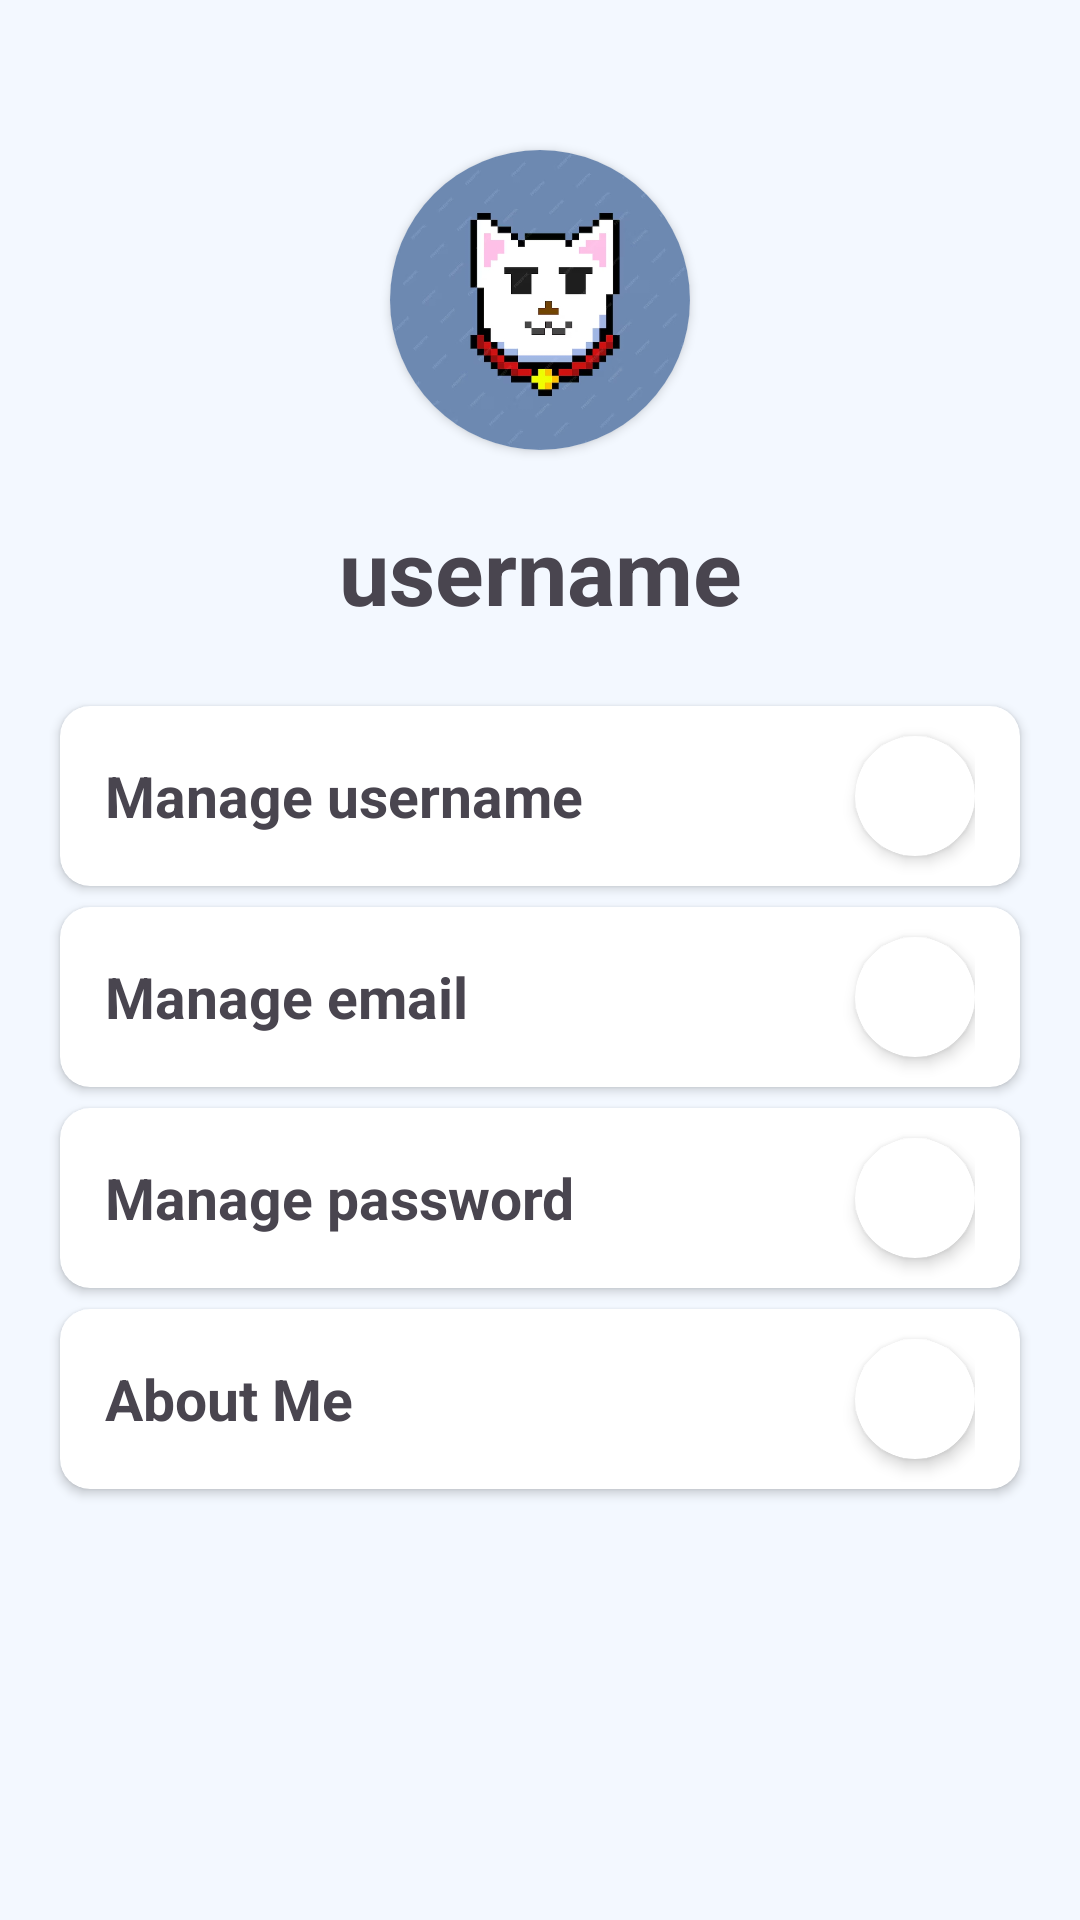

Where icons sit on this 1080 x 1920 app screen, as (x1, y1, x2, y2):
cat: (390, 150, 690, 450)
